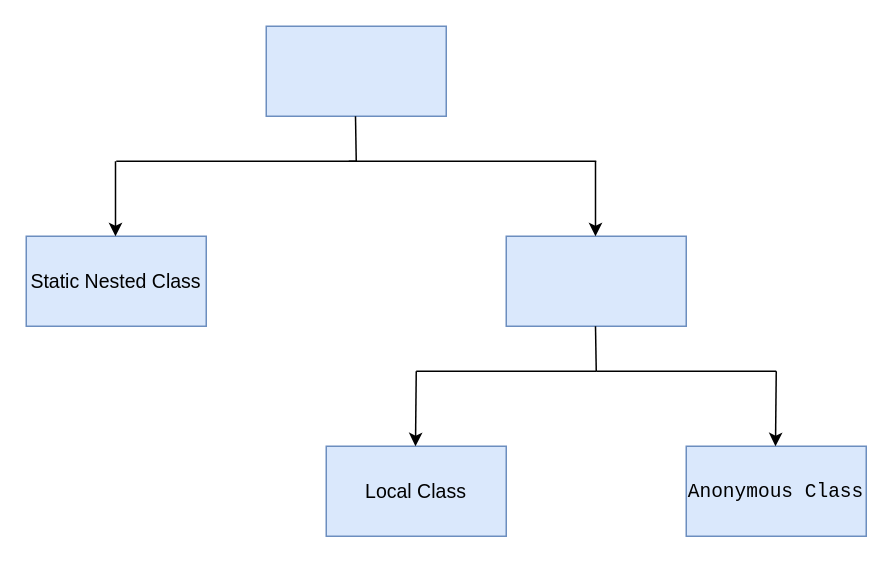
This 893x563 diagram has some shape labels left out. Here are the shapes that lost their labels. From the top down, the centre of each, then its label:
At (355,70): "Nested Class".
At (595,280): "Inner Class (Non-Static Nested Class)".
